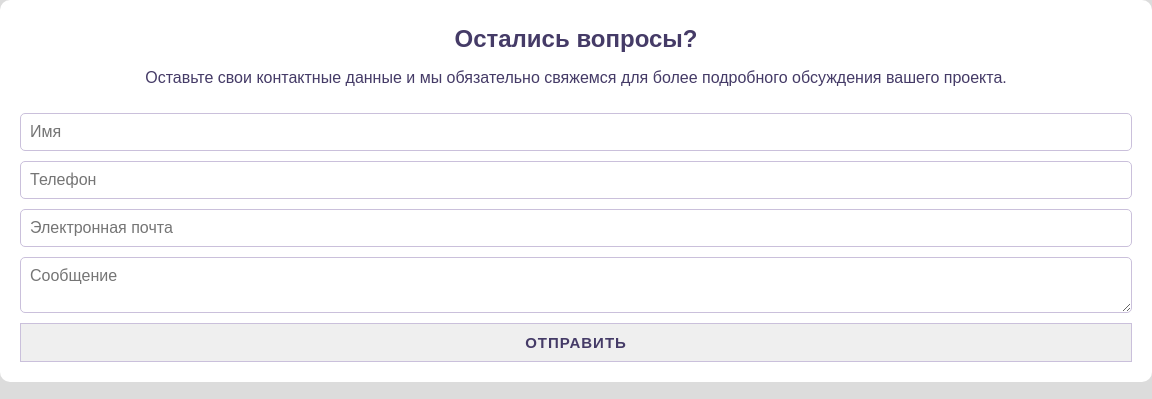
Test: Contacts Page Form › Submitting form states ui › loading and error › loading
This screenshot has width=1152, height=399.
What coordinates should you click on to do the following:
click the button "ОТПРАВИТЬ"
I would click on:
 (576, 342)
Its box is [20, 323, 1132, 362].
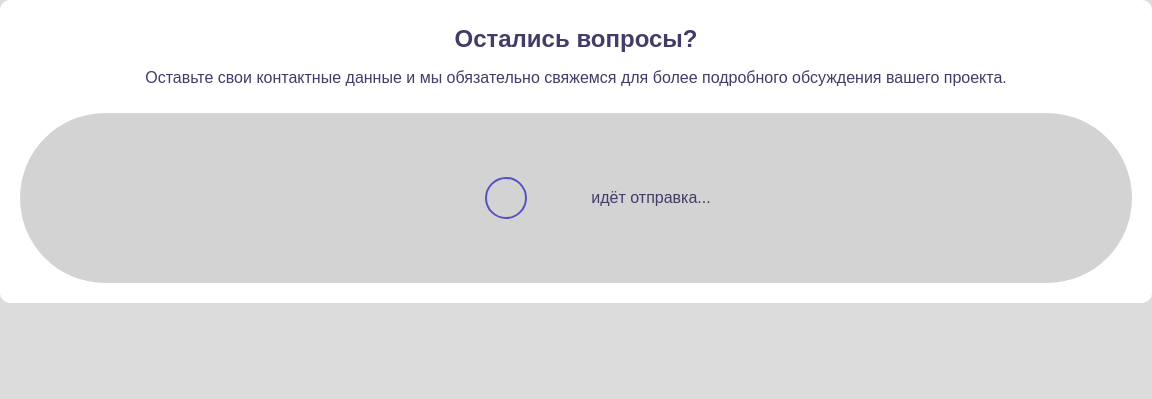
Result: the text "идёт отправка..." is shown at [20, 113, 1132, 283]
